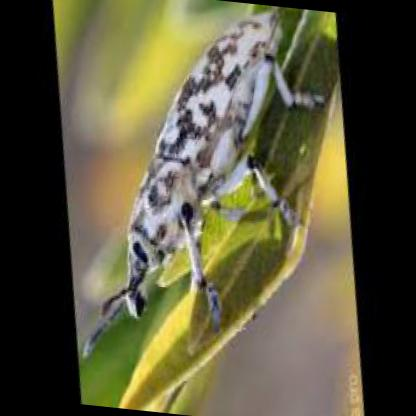ash weevil: (77, 9, 314, 368)
